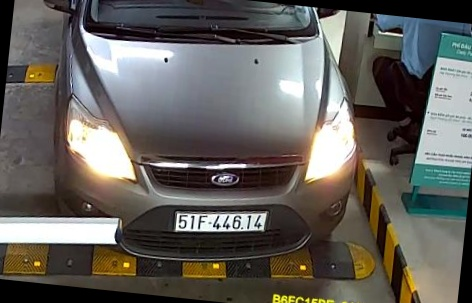plate: (161, 201, 273, 246)
